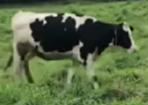cow: (11, 12, 138, 83)
